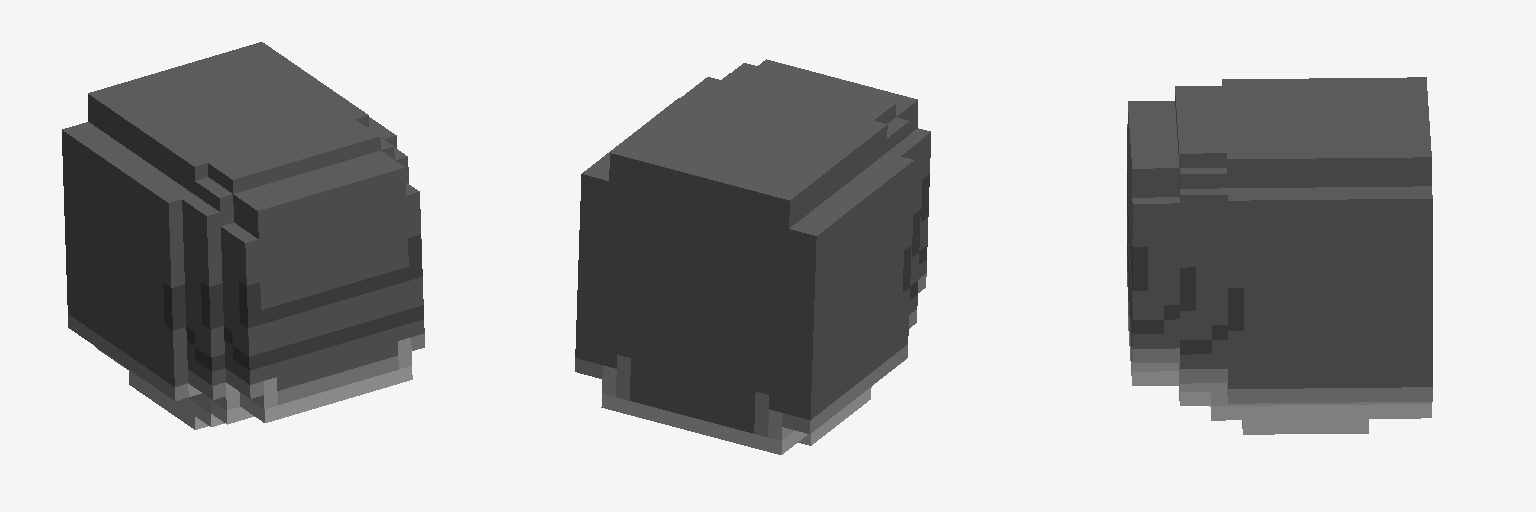
3 renders of one model, left to right at view 1: azimuth 30°, elevation 25°; view 2: azimuth 150°, elevation 25°; view 3: azimuth 270°, elevation 25°, orthographic.
Visible parts, largest first — view 1: Model; view 2: Model; view 3: Model.
Part boxes in pixels (bbox=[...]): Model: bbox=[62, 42, 424, 429]; Model: bbox=[575, 59, 930, 454]; Model: bbox=[1127, 77, 1432, 434].
Bounding box in the file's own units: 17.81 × 19.45 × 19.39.
Materials: 1 (1 with a texture image).